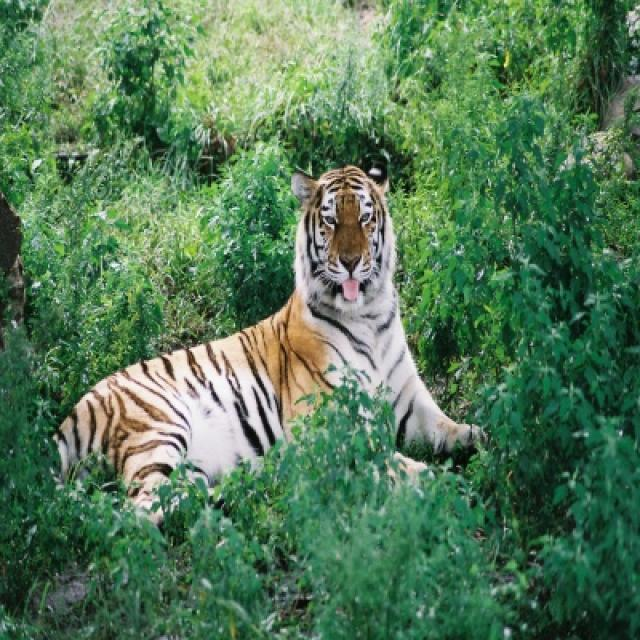Tiger: (56, 160, 483, 509)
